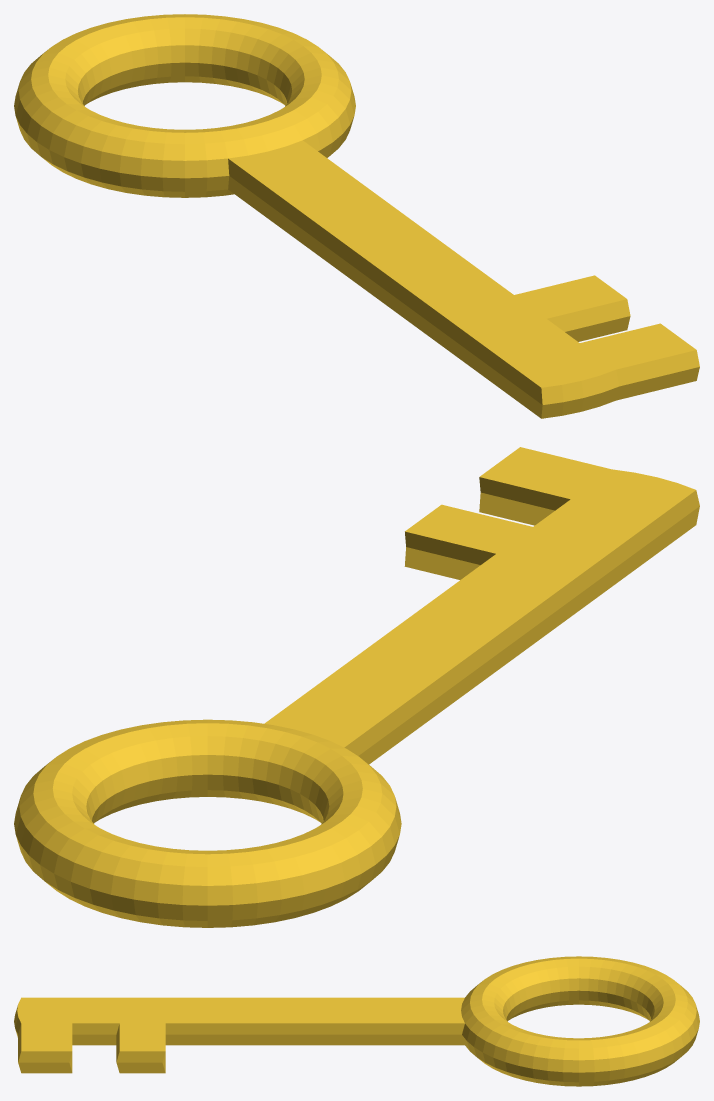
The model's file is key.fbx.
The picture shows the model from 3 angles, top to bottom: view 1: azimuth 30°, elevation 25°; view 2: azimuth 150°, elevation 25°; view 3: azimuth 270°, elevation 25°; orthographic projection. The views are drawn at different scales.
Visible parts, largest first — view 1: Torus; view 2: Torus; view 3: Torus.
Boxes of the visible parts, <box> form: Torus: <box>14,14,699,418</box>; Torus: <box>14,447,699,927</box>; Torus: <box>14,956,699,1086</box>.
Bounding box in the file's own units: 250 × 50 × 708.
